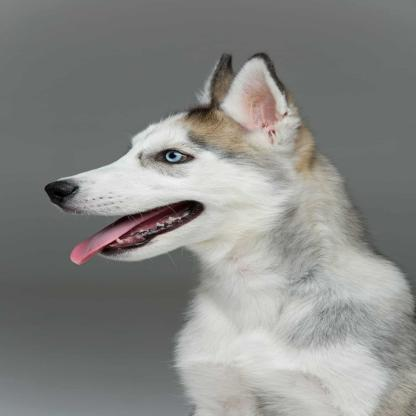dog: (39, 48, 416, 415)
